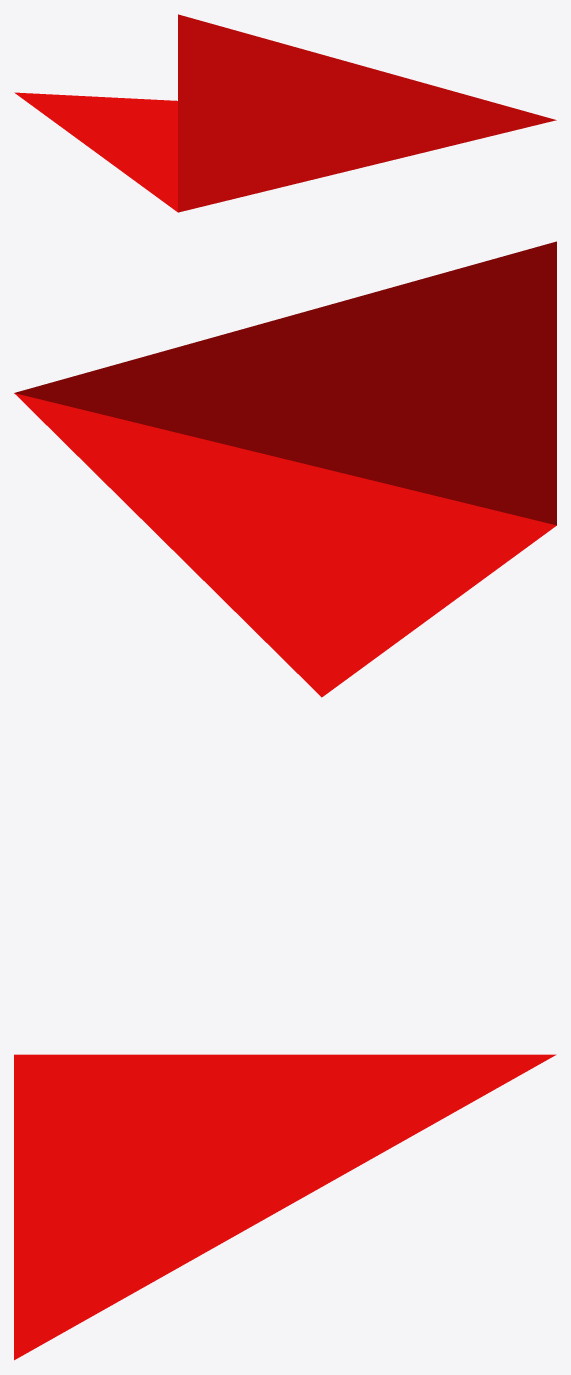
Rendered from wedge.gltf.
3 views of the same model, one above another, from view 1: azimuth 30°, elevation 25°; view 2: azimuth 150°, elevation 25°; view 3: azimuth 270°, elevation 25° (orthographic). The views are drawn at different scales.
Size of the model in its own units: 0.004 by 0.002 by 0.003.
